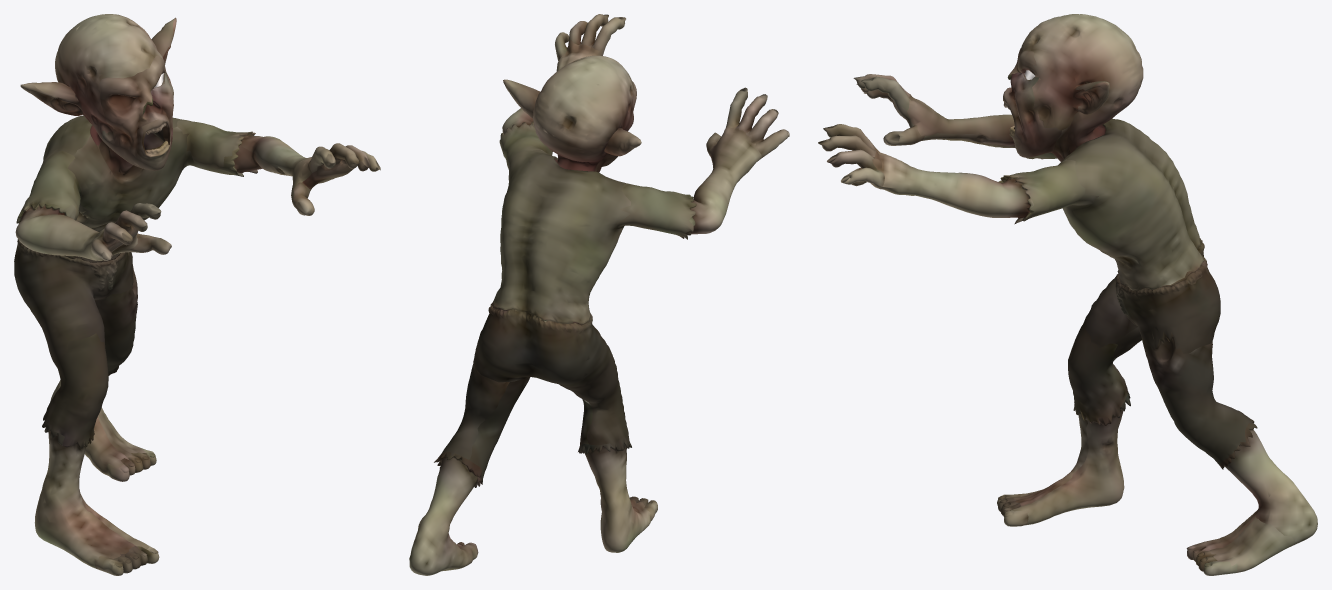
The model's file is MZ4250 - Zombie Gnome_2.glb.
3 views of the same model, side by side, from view 1: azimuth 30°, elevation 25°; view 2: azimuth 150°, elevation 25°; view 3: azimuth 270°, elevation 25° (orthographic). The views are drawn at different scales.
Parts seen in each view (by area): view 1: Body.002; view 2: Body.002; view 3: Body.002.
Boxes of the visible parts, box(x1,y1,x2,y2) form: Body.002: box(14, 14, 380, 575); Body.002: box(409, 14, 789, 575); Body.002: box(818, 14, 1317, 575).
Size of the model in its own units: 30.4 by 56.32 by 50.24.
Materials: 1 (1 with a texture image).
